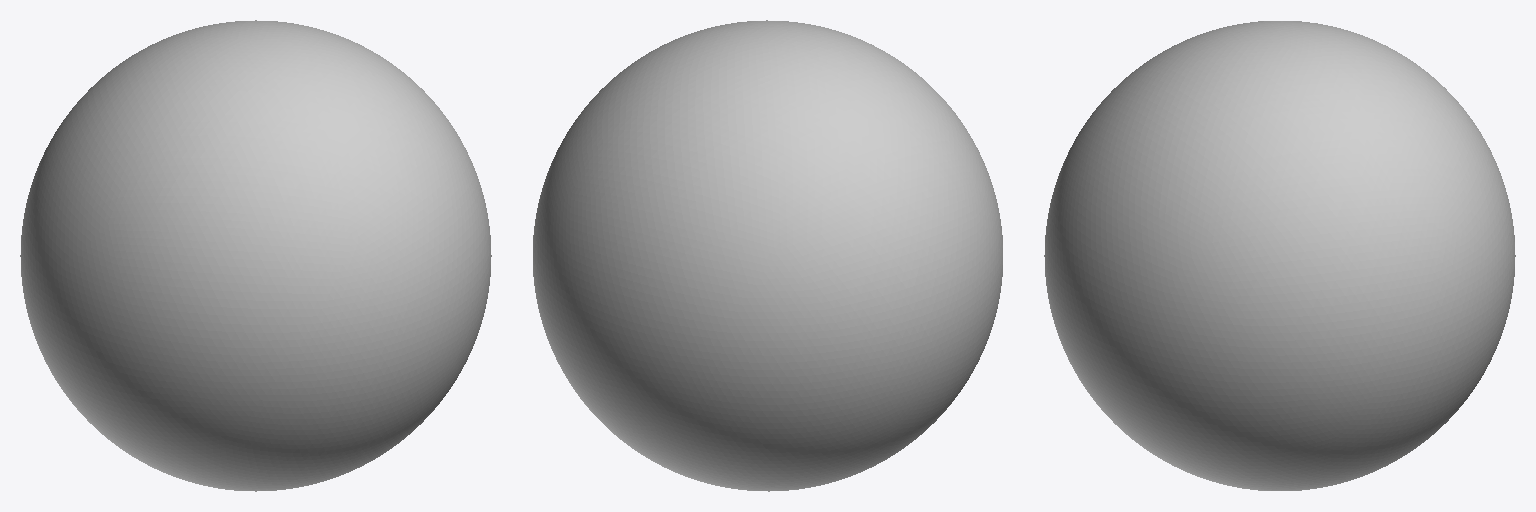
The model's file is Neptuno.obj.
3 renders of one model, left to right at view 1: azimuth 30°, elevation 25°; view 2: azimuth 150°, elevation 25°; view 3: azimuth 270°, elevation 25°, orthographic.
Visible parts, largest first — view 1: Neptune; view 2: Neptune; view 3: Neptune.
Part boxes in pixels (x1,y1,x2,y2): Neptune: (20,20,491,491); Neptune: (533,20,1002,491); Neptune: (1044,21,1515,490).
Size of the model in its own units: 7.68 by 7.68 by 7.68.